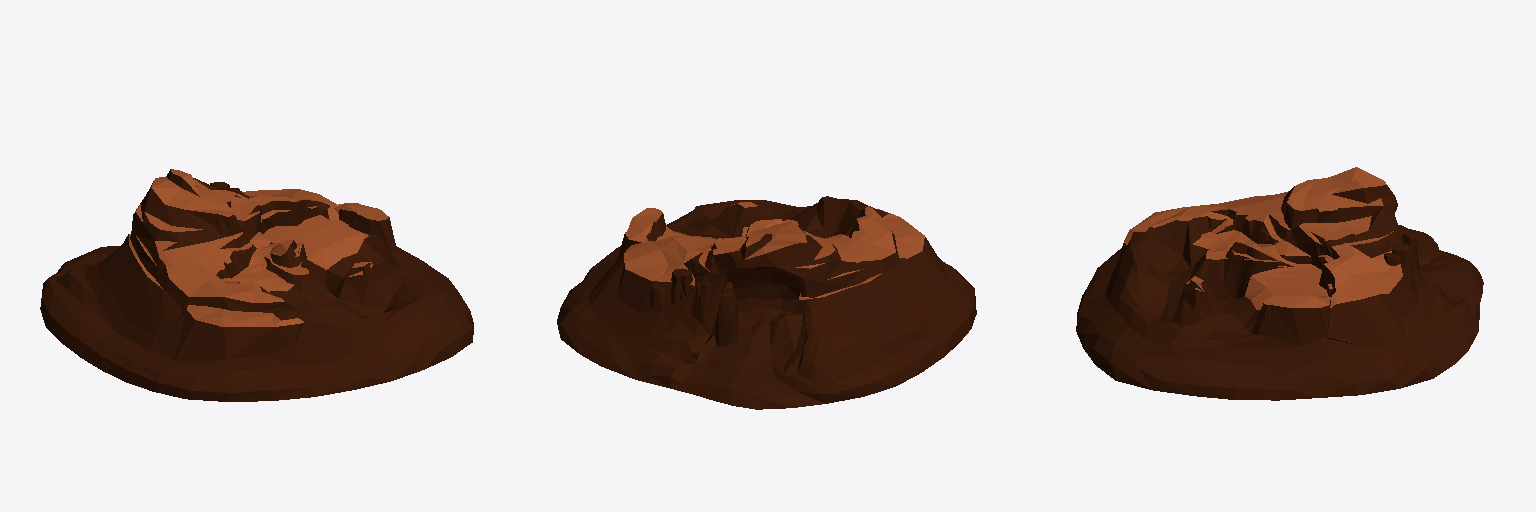
The model's file is island-cave-large_model.obj.
3 views of the same model, side by side, from view 1: azimuth 30°, elevation 25°; view 2: azimuth 150°, elevation 25°; view 3: azimuth 270°, elevation 25° (orthographic).
Visible parts, largest first — view 1: island-cave-large_model; view 2: island-cave-large_model; view 3: island-cave-large_model.
Part boxes in pixels (left/top/right/bottom): island-cave-large_model: left=40, top=169, right=473, bottom=401; island-cave-large_model: left=557, top=196, right=976, bottom=409; island-cave-large_model: left=1076, top=167, right=1483, bottom=400.
Bounding box in the file's own units: 273 × 88.01 × 275.